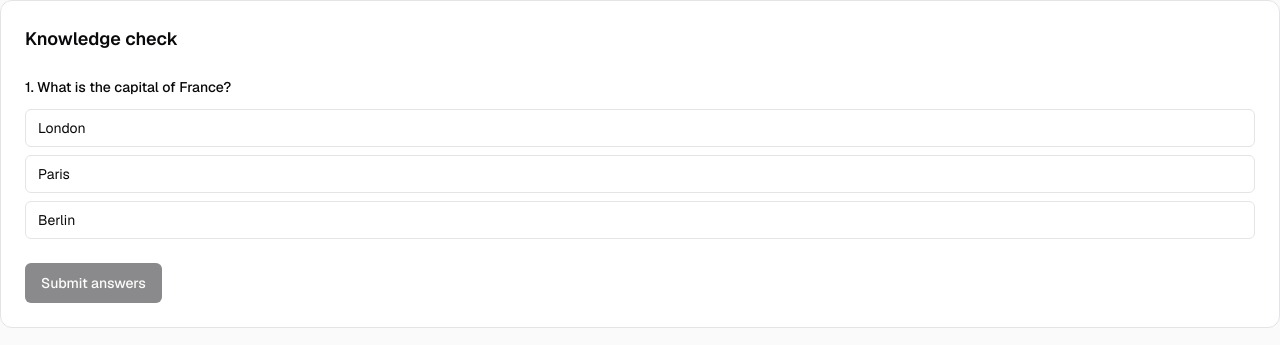
Test: QuizPanel › shows explanation text after successful submit
The image size is (1280, 345).
// Select the correct option
Click the radio button labelled "Paris": coordinates (54, 174) [25, 155, 1255, 193]
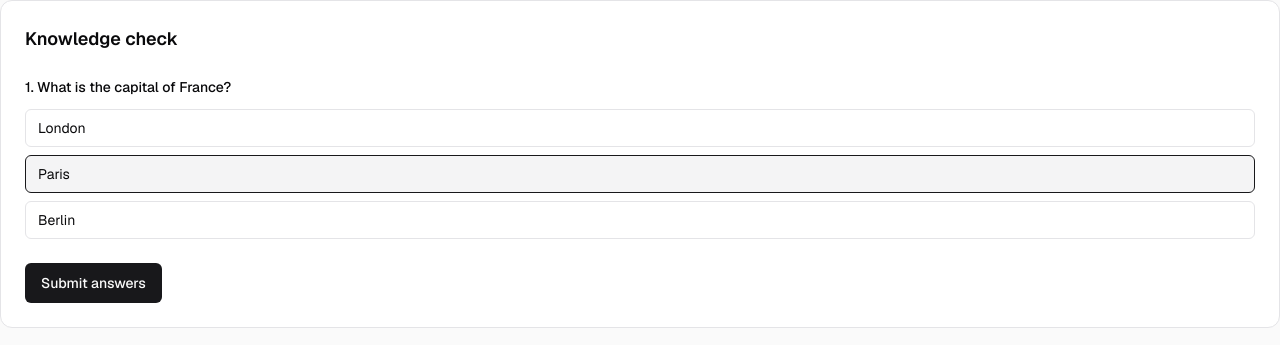
Click the button "Submit answers": coordinates (93, 283) [25, 263, 162, 303]
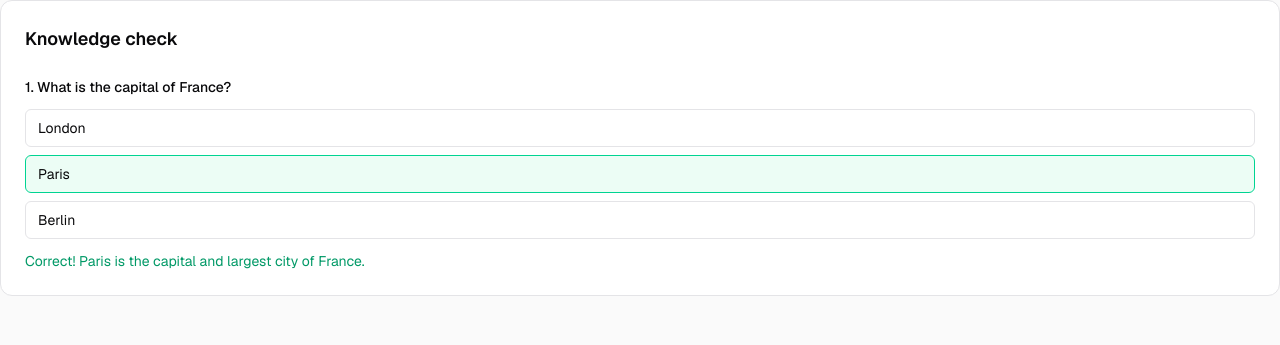
Check: the text "Correct! Paris is the capital and largest city of France." is shown, box [25, 252, 365, 270]
